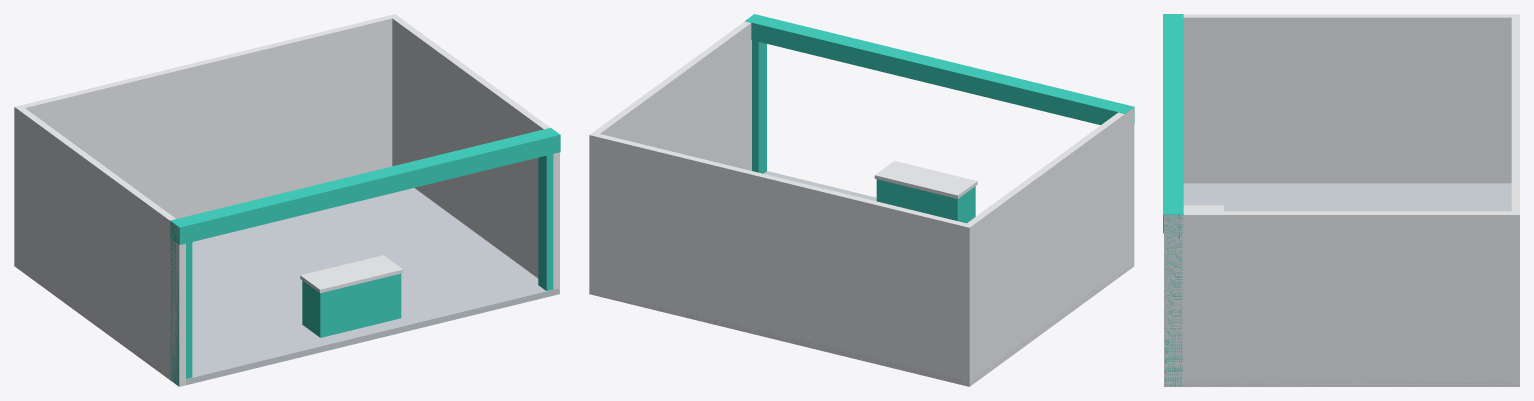
The picture shows the model from 3 angles, left to right: view 1: azimuth 30°, elevation 25°; view 2: azimuth 150°, elevation 25°; view 3: azimuth 270°, elevation 25°; orthographic projection. The views are drawn at different scales.
Visible parts, largest first — view 1: Exhibition Booth Concept; view 2: Exhibition Booth Concept; view 3: Exhibition Booth Concept.
Part boxes in pixels (<box>): Exhibition Booth Concept: <box>14,14,560,386</box>; Exhibition Booth Concept: <box>589,14,1134,386</box>; Exhibition Booth Concept: <box>1163,14,1519,386</box>.
Size of the model in its own units: 8 by 3.2 by 6.02.
